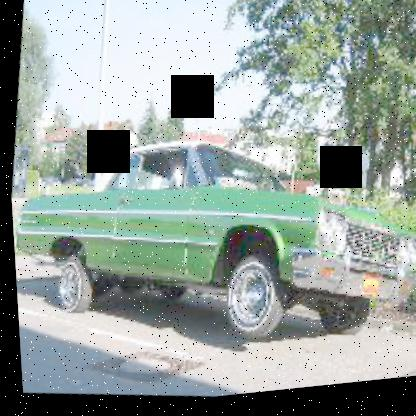not_emergency: (6, 96, 415, 416)
